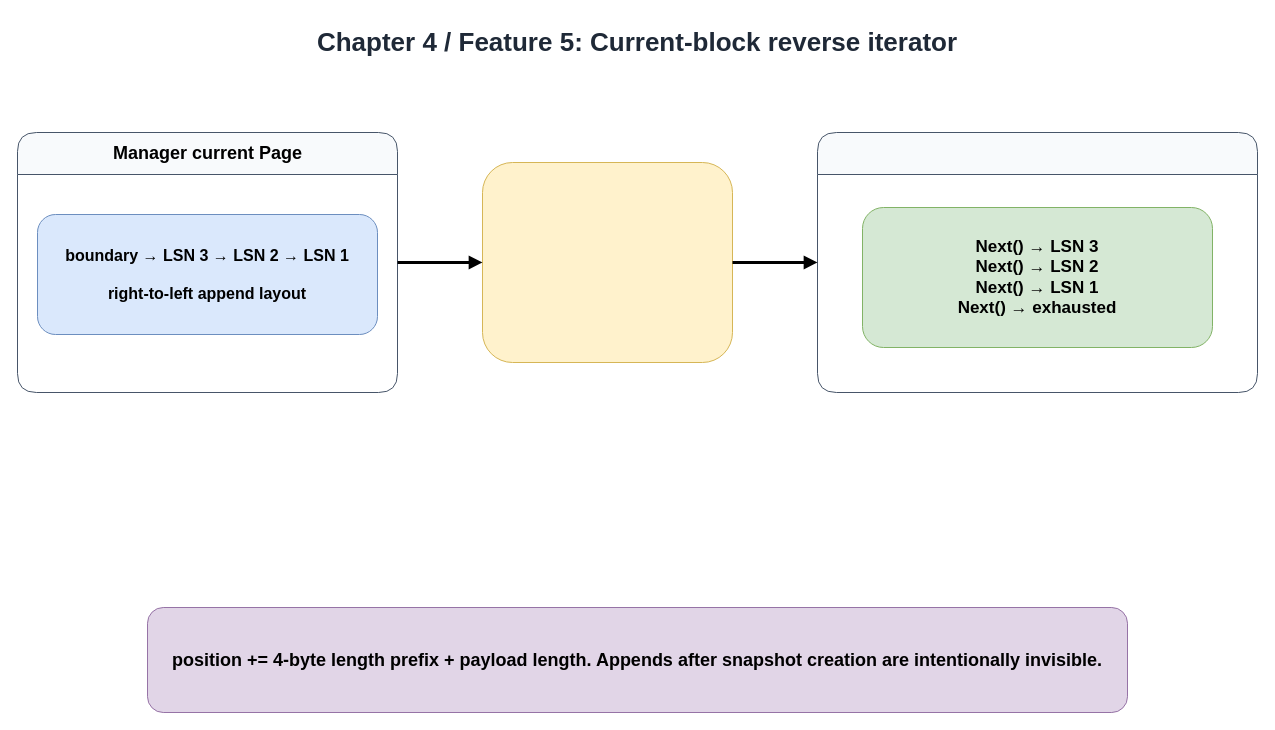
This 1275x730 diagram has some shape labels left out. The box of each missing label's shape, as (x1, y1, x2, y2) in pixels:
Immutable iterator snapshot: (816, 132, 1258, 392)
Iterator() copy Page position = boundary no disk write: (482, 162, 732, 362)
